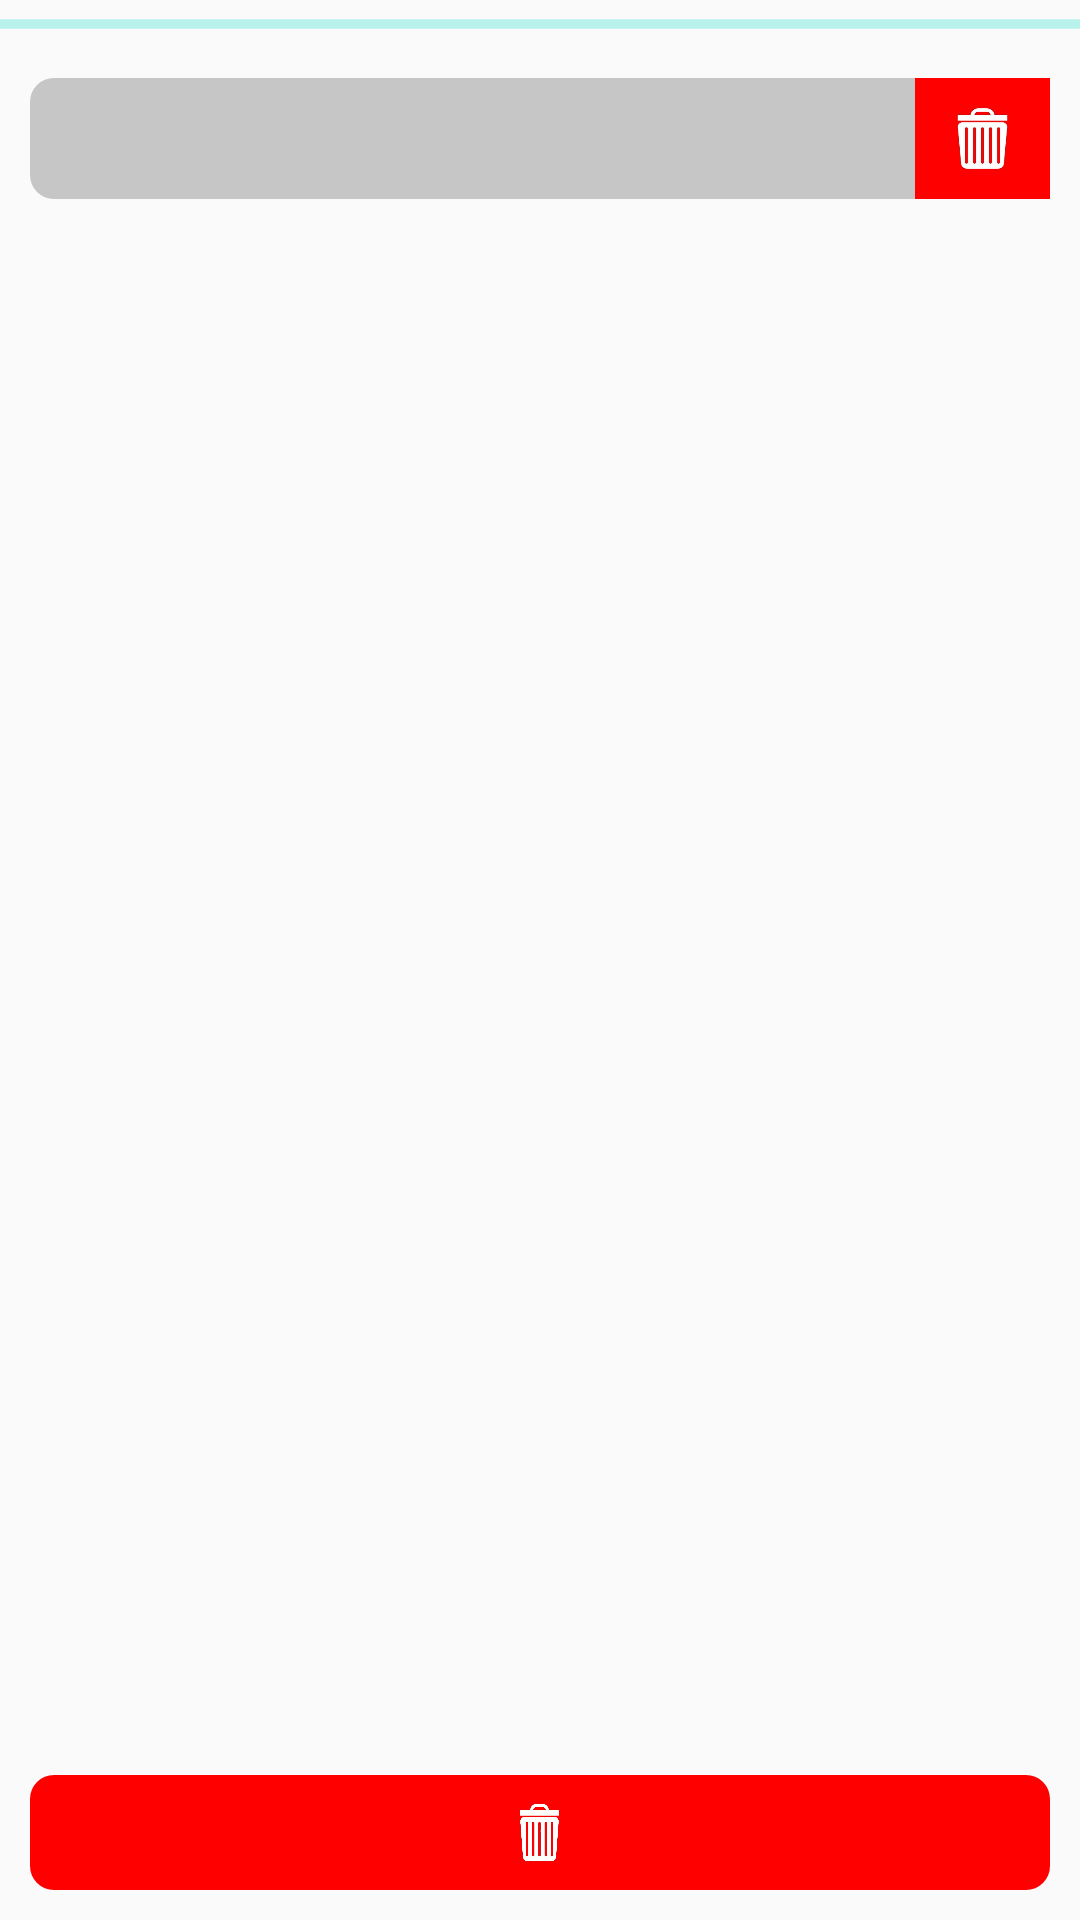

Screen size 1080×1920. Icon name, then its center in pixels as [x,y]:
bin: [982,138], [539,1833]
